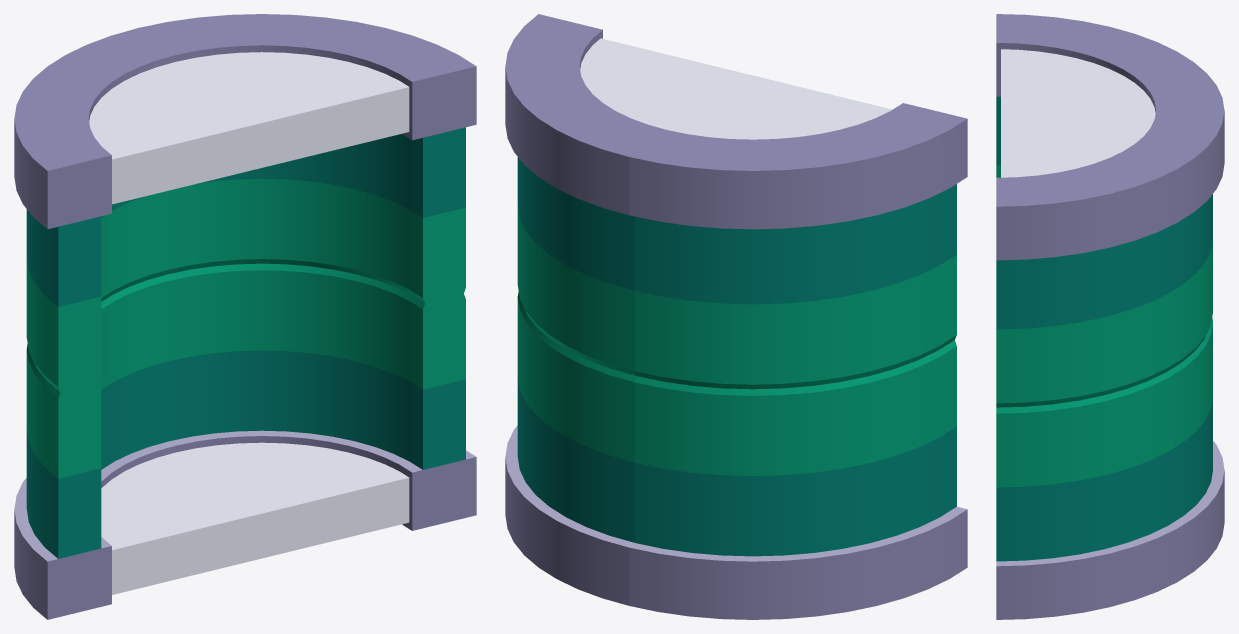
3 renders of one model, left to right at view 1: azimuth 30°, elevation 25°; view 2: azimuth 150°, elevation 25°; view 3: azimuth 270°, elevation 25°, orthographic. The views are drawn at different scales.
Parts seen in each view (by area): view 1: mergedBlocks; view 2: mergedBlocks; view 3: mergedBlocks.
Boxes of the visible parts, x1,y1,x2,y2 form: mergedBlocks: (14,14,476,619); mergedBlocks: (505,14,967,619); mergedBlocks: (996,14,1224,619).
Bounding box in the file's own units: 1 × 1 × 0.5.
